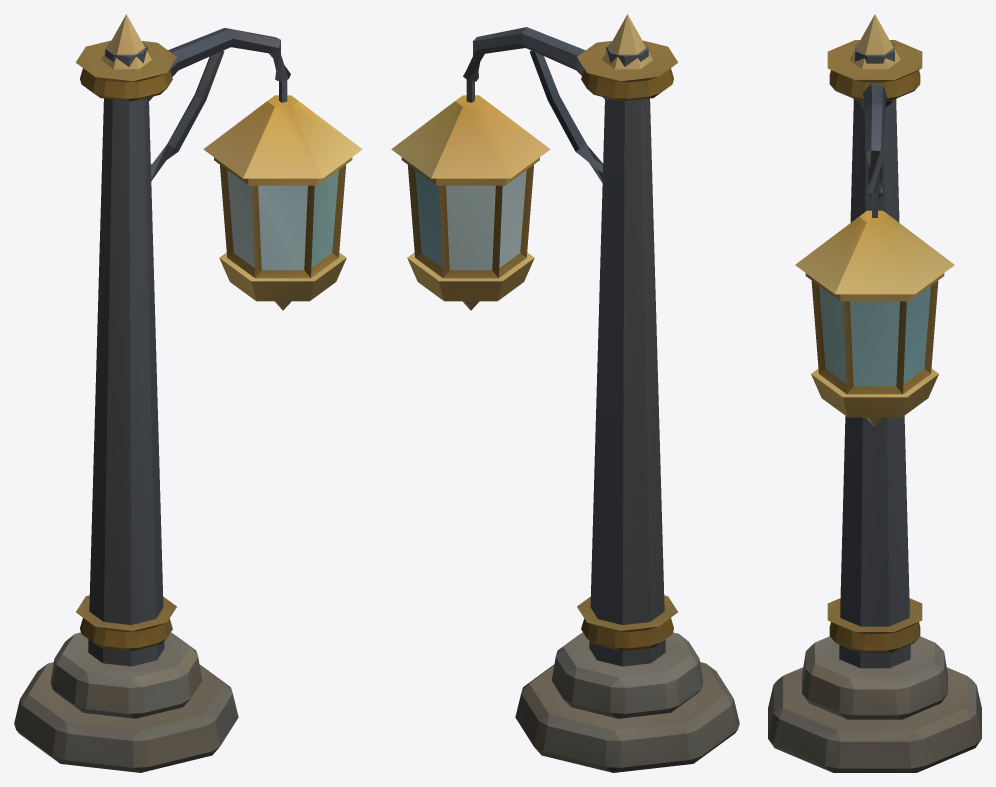
File: glass-lantern.glb
3 renders of one model, left to right at view 1: azimuth 30°, elevation 25°; view 2: azimuth 150°, elevation 25°; view 3: azimuth 270°, elevation 25°, orthographic.
Visible parts, largest first — view 1: glass-lantern; view 2: glass-lantern; view 3: glass-lantern.
Boxes of the visible parts, <box> form: glass-lantern: <box>14,14,362,772</box>; glass-lantern: <box>391,14,739,772</box>; glass-lantern: <box>768,14,981,772</box>.
Bounding box in the file's own units: 0.6701 × 1.48 × 0.4006.
